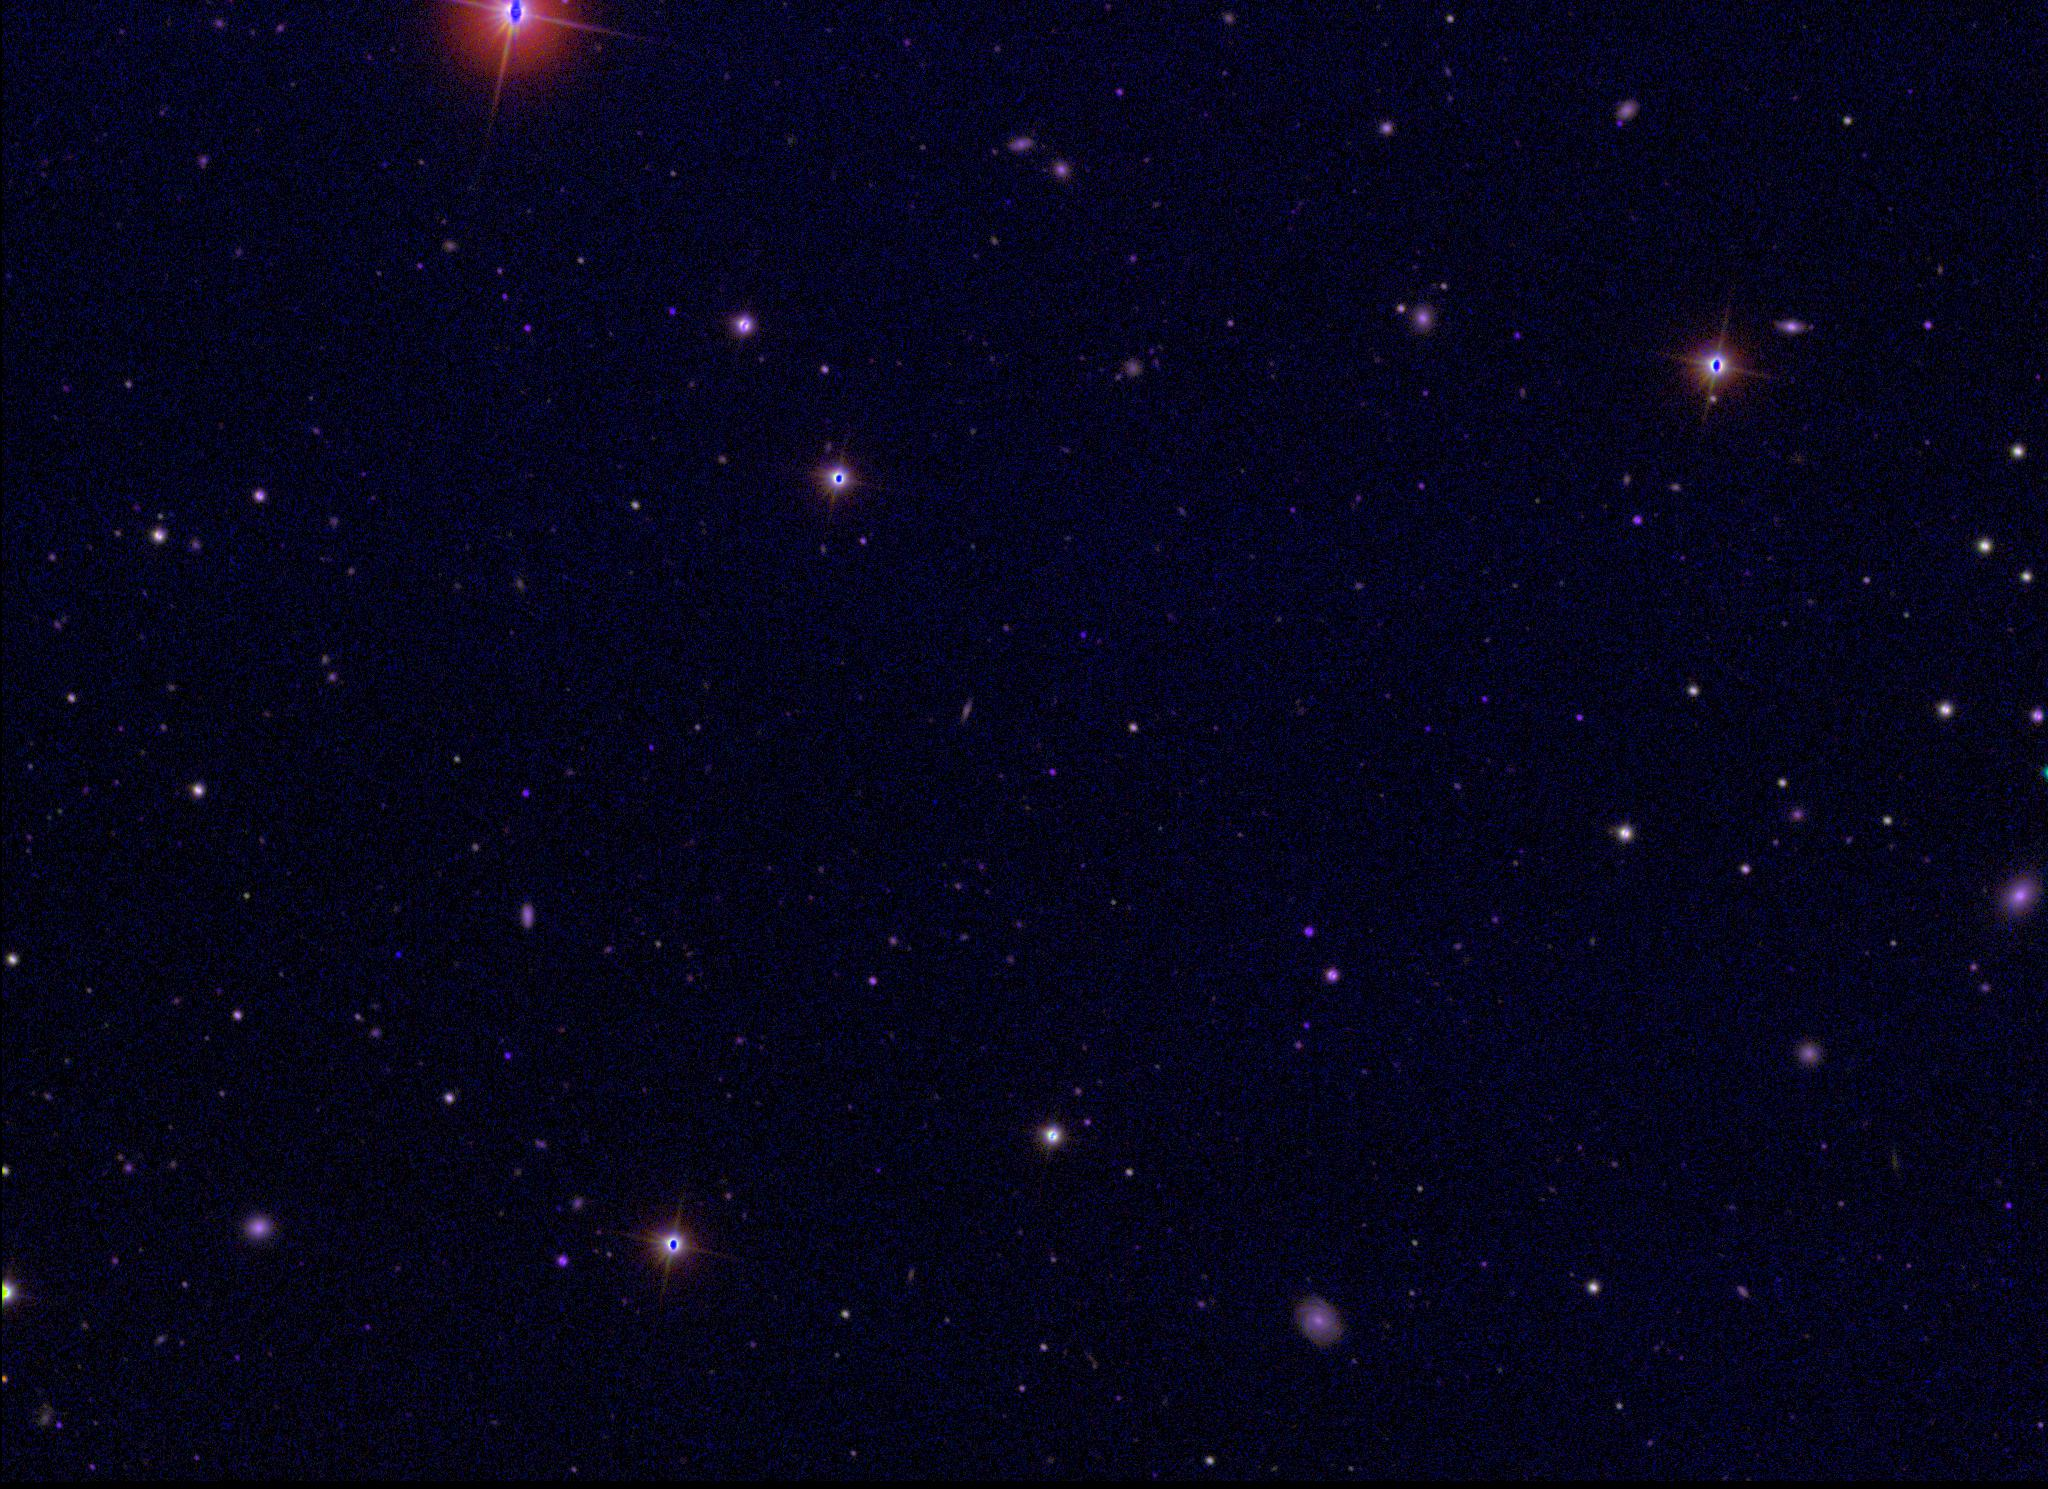L: (393, 948, 405, 962)
